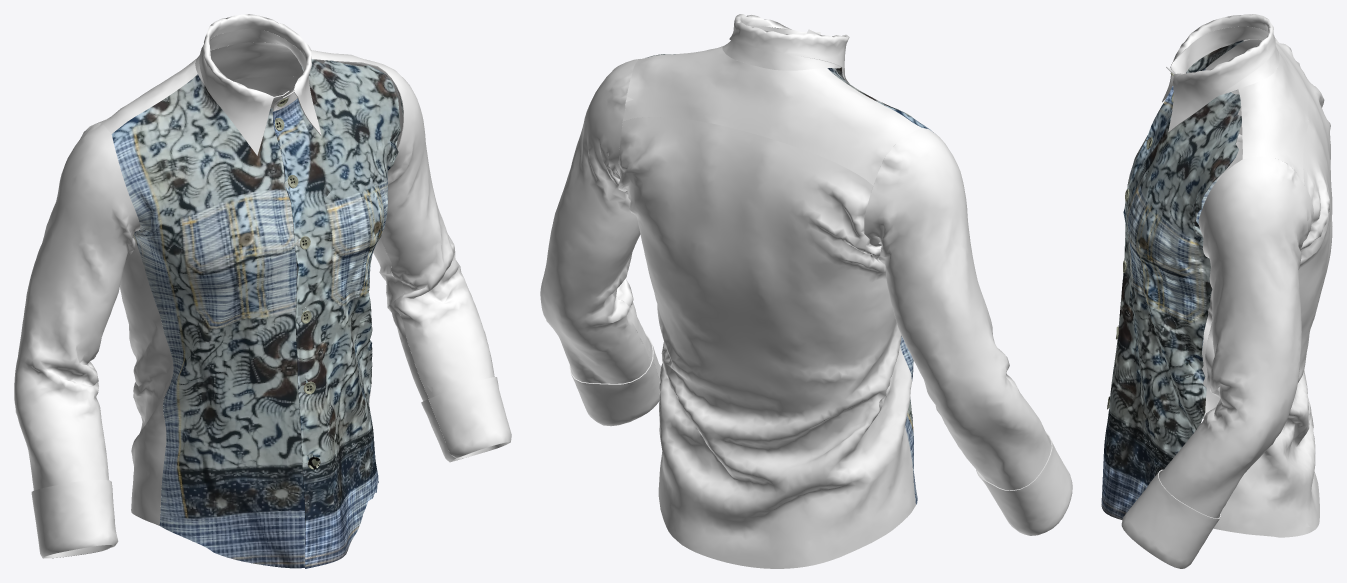
Rendered from batik1.glb.
3 renders of one model, left to right at view 1: azimuth 30°, elevation 25°; view 2: azimuth 150°, elevation 25°; view 3: azimuth 270°, elevation 25°, orthographic. The views are drawn at different scales.
Visible parts, largest first — view 1: Shirt01_Shirt00_1:Pattern2D_7660, Shirt00_1:Pattern2D_4228_Shirt01_Shirt00_1:Material4782_EY22, Shirt01_Shirt00_1:Pattern2D_22590, Shirt01_Shirt00_1:Pattern2D_12616, Shirt01_Shirt00_1:Pattern2D_7658, Shirt01_Shirt00_1:Pattern2D_22589, Shirt01_Shirt00_1:Pattern2D_22591, Shirt01_Shirt00_1:Pattern2D_14923, Shirt01_Shirt00_1:Pattern2D_7659, Shirt01_Shirt00_1:Pattern2D_21425; view 2: Shirt01_Shirt00_1:Pattern2D_7658, Shirt01_Shirt00_1:Pattern2D_22590, Shirt01_Shirt00_1:Pattern2D_12616, Shirt01_Shirt00_1:Pattern2D_7659, Shirt01_Shirt00_1:Pattern2D_22591, Shirt01_Shirt00_1:Pattern2D_14923, Shirt01_Shirt00_1:Pattern2D_22589, Shirt01_Shirt00_1:Pattern2D_21425, Shirt01_Shirt00_1:Pattern2D_7660; view 3: Shirt00_1:Pattern2D_4228_Shirt01_Shirt00_1:Material4782_EY22, Shirt01_Shirt00_1:Pattern2D_12616, Shirt01_Shirt00_1:Pattern2D_7658, Shirt01_Shirt00_1:Pattern2D_7659, Shirt01_Shirt00_1:Pattern2D_14923, Shirt01_Shirt00_1:Pattern2D_22589, Shirt01_Shirt00_1:Pattern2D_21425, Shirt01_Shirt00_1:Pattern2D_7660, Shirt01_Shirt00_1:Pattern2D_22590.
Boxes of the visible parts, box(x1,y1,x2,y2) form: Shirt01_Shirt00_1:Pattern2D_7660: box(111, 74, 312, 568); Shirt00_1:Pattern2D_4228_Shirt01_Shirt00_1:Material4782_EY22: box(272, 59, 403, 568); Shirt01_Shirt00_1:Pattern2D_22590: box(14, 122, 140, 558); Shirt01_Shirt00_1:Pattern2D_12616: box(343, 59, 510, 462); Shirt01_Shirt00_1:Pattern2D_7658: box(120, 76, 370, 525); Shirt01_Shirt00_1:Pattern2D_22589: box(199, 14, 321, 155); Shirt01_Shirt00_1:Pattern2D_22591: box(31, 479, 118, 558); Shirt01_Shirt00_1:Pattern2D_14923: box(421, 377, 511, 462); Shirt01_Shirt00_1:Pattern2D_7659: box(99, 42, 377, 133); Shirt01_Shirt00_1:Pattern2D_21425: box(195, 28, 306, 111); Shirt01_Shirt00_1:Pattern2D_7658: box(617, 117, 915, 568); Shirt01_Shirt00_1:Pattern2D_22590: box(864, 128, 1051, 490); Shirt01_Shirt00_1:Pattern2D_12616: box(540, 59, 652, 383); Shirt01_Shirt00_1:Pattern2D_7659: box(622, 46, 921, 185); Shirt01_Shirt00_1:Pattern2D_22591: box(976, 431, 1072, 535); Shirt01_Shirt00_1:Pattern2D_14923: box(569, 333, 660, 426); Shirt01_Shirt00_1:Pattern2D_22589: box(729, 14, 849, 83); Shirt01_Shirt00_1:Pattern2D_21425: box(722, 25, 841, 70); Shirt01_Shirt00_1:Pattern2D_7660: box(827, 67, 933, 504); Shirt00_1:Pattern2D_4228_Shirt01_Shirt00_1:Material4782_EY22: box(1101, 86, 1241, 519); Shirt01_Shirt00_1:Pattern2D_12616: box(1158, 156, 1313, 518); Shirt01_Shirt00_1:Pattern2D_7658: box(1202, 73, 1332, 537); Shirt01_Shirt00_1:Pattern2D_7659: box(1238, 39, 1309, 183); Shirt01_Shirt00_1:Pattern2D_14923: box(1121, 469, 1220, 568); Shirt01_Shirt00_1:Pattern2D_22589: box(1162, 14, 1275, 132); Shirt01_Shirt00_1:Pattern2D_21425: box(1166, 26, 1279, 94); Shirt01_Shirt00_1:Pattern2D_7660: box(1127, 40, 1243, 350); Shirt01_Shirt00_1:Pattern2D_22590: box(1205, 38, 1300, 142).
Bounding box in the file's own units: 287 × 293 × 128.
11 materials, 4 textured.
